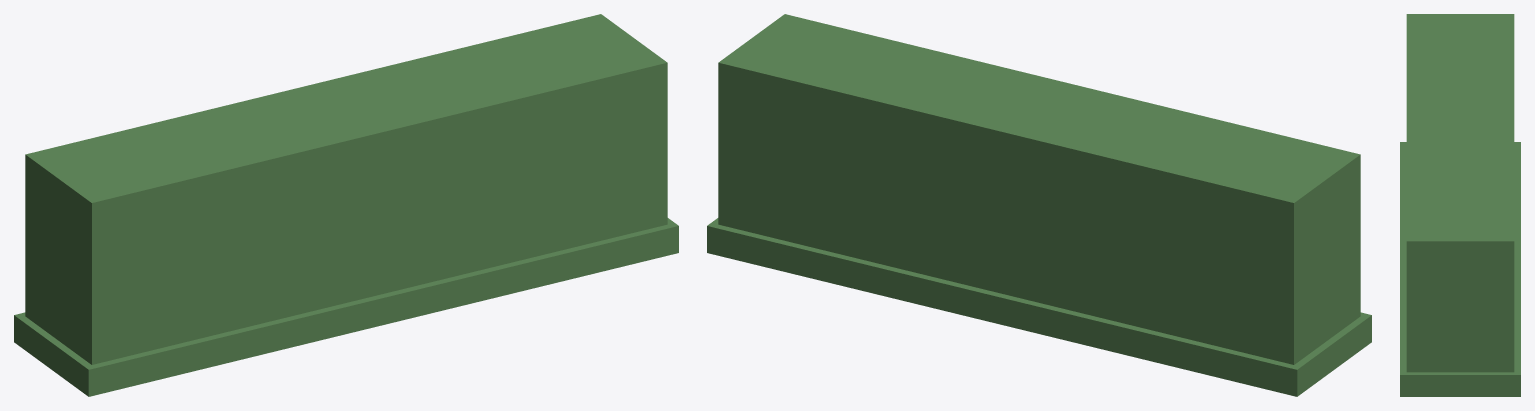
Rendered from Hedge.glb.
3 views of the same model, side by side, from view 1: azimuth 30°, elevation 25°; view 2: azimuth 150°, elevation 25°; view 3: azimuth 270°, elevation 25° (orthographic). The views are drawn at different scales.
Parts seen in each view (by area): view 1: hedge-static-hedge-leaf, hedge-static-hedge-base; view 2: hedge-static-hedge-leaf, hedge-static-hedge-base; view 3: hedge-static-hedge-leaf, hedge-static-hedge-base.
Boxes of the visible parts, left/top/right/bottom form: hedge-static-hedge-leaf: left=25, top=14, right=667, bottom=364; hedge-static-hedge-base: left=14, top=218, right=678, bottom=396; hedge-static-hedge-leaf: left=718, top=14, right=1360, bottom=364; hedge-static-hedge-base: left=707, top=218, right=1371, bottom=396; hedge-static-hedge-leaf: left=1406, top=14, right=1514, bottom=372; hedge-static-hedge-base: left=1400, top=142, right=1520, bottom=396.
Size of the model in its own units: 4.1 by 1.25 by 0.9.
